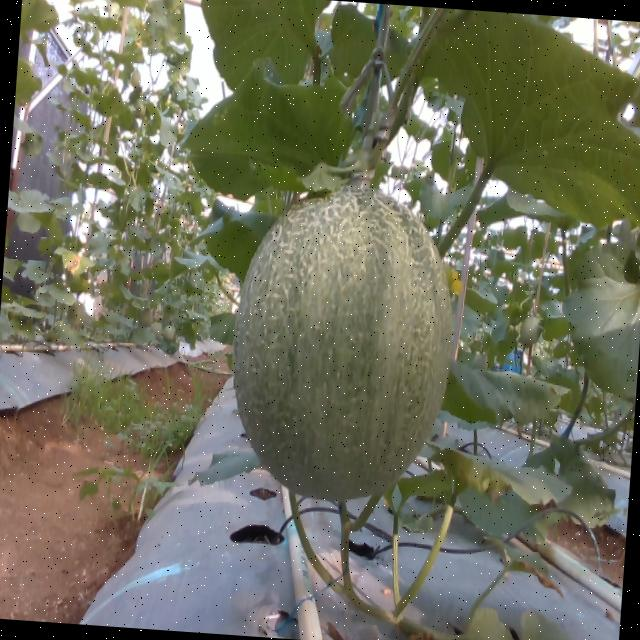melon: (234, 189, 451, 501)
